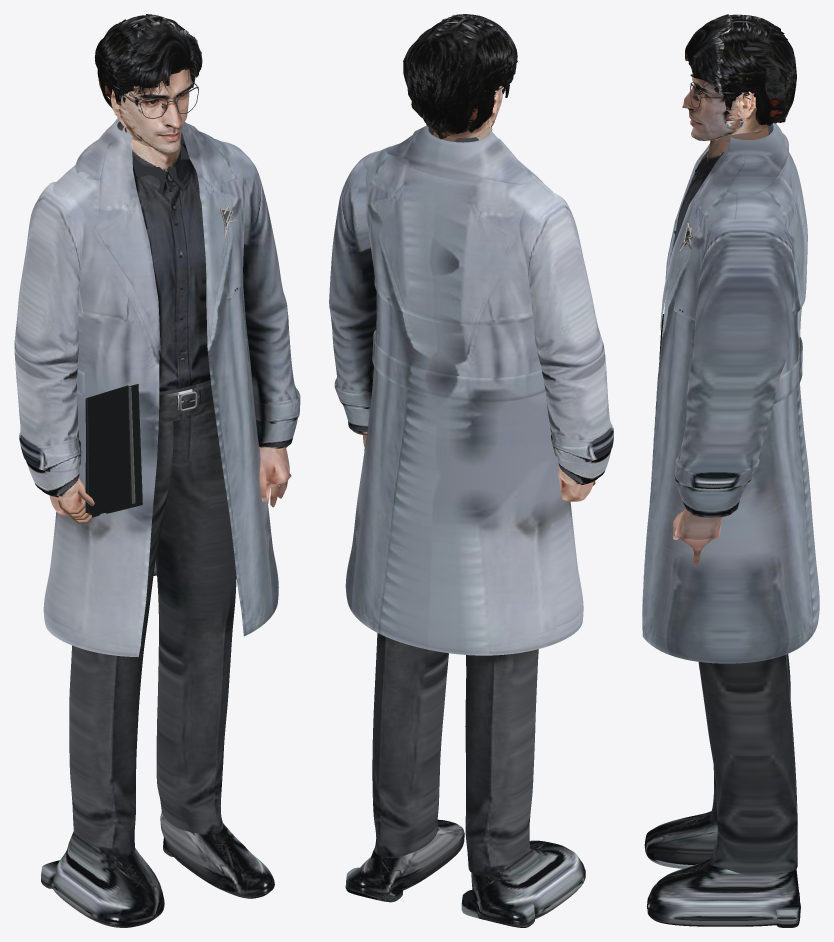
File: passer-02.glb
3 renders of one model, left to right at view 1: azimuth 30°, elevation 25°; view 2: azimuth 150°, elevation 25°; view 3: azimuth 270°, elevation 25°, orthographic.
Visible parts, largest first — view 1: 雾蓝灰敞襟风衣, 直筒西裤·角色左腿, 插肩风衣右袖, 直筒西裤·角色右腿, 炭黑立领衬衫, 插肩风衣左袖, 德比皮鞋·右, 角色右风衣翻领, 手持建筑文件夹·封面, 德比皮鞋·左, 角色左风衣翻领, 额前与鬓发 · 原画边界体积 (+14 smaller); view 2: 雾蓝灰敞襟风衣, 后背悬垂覆片, 插肩风衣右袖, 直筒西裤·角色右腿, 直筒西裤·角色左腿, 插肩风衣左袖, 后脑及后发 · 闭合体积, 德比皮鞋·右, 风衣后腰带, 后领翻折, 德比皮鞋·左, 右侧鬓发至后枕 · 轮廓与耳部开口 (+3 smaller); view 3: 雾蓝灰敞襟风衣, 插肩风衣左袖, 直筒西裤·角色左腿, 德比皮鞋·左, 后背悬垂覆片, 左侧鬓发至后枕 · 轮廓与耳部开口, 后脑及后发 · 闭合体积, 德比皮鞋·右, 后领翻折, 角色左风衣翻领, 肖像头面 · 连续眼眶唇环, 左前胸防雨翼 (+8 smaller).
Boxes of the visible parts, x1=… form: 雾蓝灰敞襟风衣: x1=43, y1=120, x2=278, y2=656; 直筒西裤·角色左腿: x1=155, y1=400, x2=236, y2=835; 插肩风衣右袖: x1=14, y1=181, x2=85, y2=496; 直筒西裤·角色右腿: x1=69, y1=413, x2=173, y2=856; 炭黑立领衬衫: x1=124, y1=127, x2=228, y2=391; 插肩风衣左袖: x1=222, y1=141, x2=298, y2=448; 德比皮鞋·右: x1=52, y1=831, x2=164, y2=920; 角色右风衣翻领: x1=94, y1=138, x2=160, y2=352; 手持建筑文件夹·封面: x1=85, y1=385, x2=131, y2=514; 德比皮鞋·左: x1=160, y1=812, x2=273, y2=893; 角色左风衣翻领: x1=182, y1=122, x2=236, y2=343; 额前与鬓发 · 原画边界体积: x1=110, y1=20, x2=201, y2=102; 雾蓝灰敞襟风衣: x1=345, y1=126, x2=583, y2=655; 后背悬垂覆片: x1=363, y1=145, x2=559, y2=326; 插肩风衣右袖: x1=519, y1=192, x2=611, y2=483; 直筒西裤·角色右腿: x1=465, y1=649, x2=538, y2=876; 直筒西裤·角色左腿: x1=372, y1=633, x2=448, y2=858; 插肩风衣左袖: x1=329, y1=151, x2=377, y2=433; 后脑及后发 · 闭合体积: x1=403, y1=17, x2=484, y2=138; 德比皮鞋·右: x1=471, y1=840, x2=584, y2=913; 风衣后腰带: x1=372, y1=330, x2=545, y2=402; 后领翻折: x1=386, y1=125, x2=531, y2=184; 德比皮鞋·左: x1=360, y1=819, x2=464, y2=889; 右侧鬓发至后枕 · 轮廓与耳部开口: x1=458, y1=17, x2=515, y2=132; 雾蓝灰敞襟风衣: x1=642, y1=123, x2=819, y2=663; 插肩风衣左袖: x1=676, y1=214, x2=794, y2=515; 直筒西裤·角色左腿: x1=698, y1=654, x2=797, y2=875; 德比皮鞋·左: x1=647, y1=859, x2=800, y2=925; 后背悬垂覆片: x1=734, y1=152, x2=807, y2=316; 左侧鬓发至后枕 · 轮廓与耳部开口: x1=690, y1=21, x2=780, y2=125; 后脑及后发 · 闭合体积: x1=721, y1=17, x2=796, y2=123; 德比皮鞋·右: x1=644, y1=811, x2=717, y2=868; 后领翻折: x1=726, y1=123, x2=788, y2=195; 角色左风衣翻领: x1=660, y1=146, x2=744, y2=330; 肖像头面 · 连续眼眶唇环: x1=682, y1=73, x2=743, y2=140; 左前胸防雨翼: x1=673, y1=199, x2=725, y2=320.
Bounding box in the file's own units: 0.566 × 1.77 × 0.3298.
Materials: 136 (118 with a texture image).
